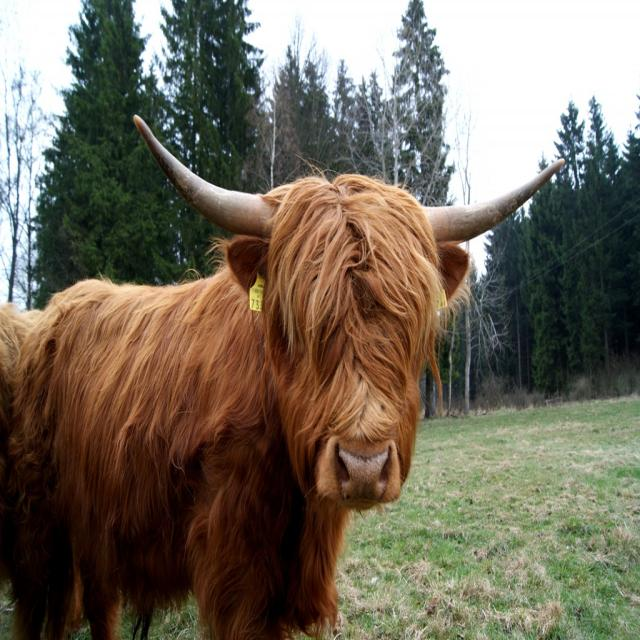Cattle: (9, 114, 565, 640)
